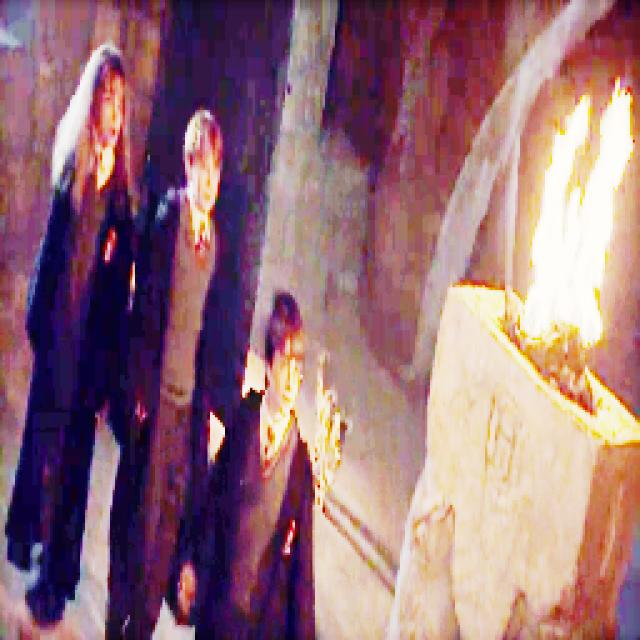cat: (309, 343, 355, 516)
